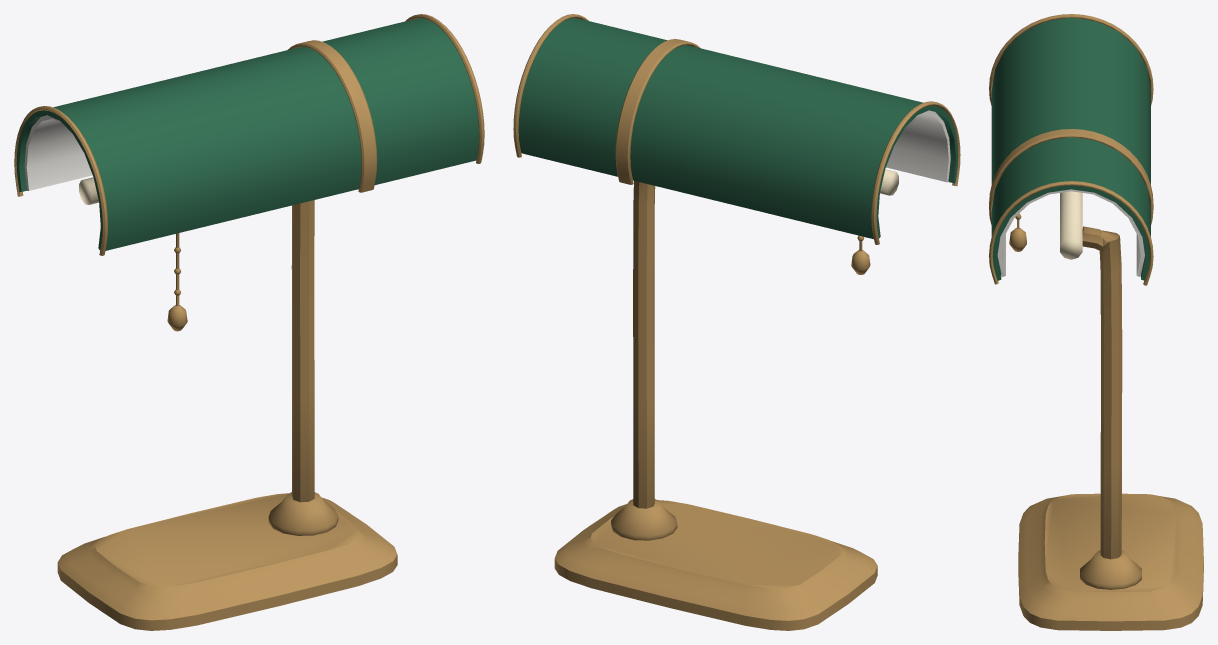
The model's file is lampBanker.glb.
3 renders of one model, left to right at view 1: azimuth 30°, elevation 25°; view 2: azimuth 150°, elevation 25°; view 3: azimuth 270°, elevation 25°, orthographic. The views are drawn at different scales.
Visible parts, largest first — view 1: lampBanker; view 2: lampBanker; view 3: lampBanker.
Part boxes in pixels (x1=…): lampBanker: x1=14, y1=14, x2=484, y2=630; lampBanker: x1=513, y1=14, x2=960, y2=630; lampBanker: x1=989, y1=14, x2=1203, y2=630.
Bounding box in the file's own units: 0.302 × 0.392 × 0.162.
